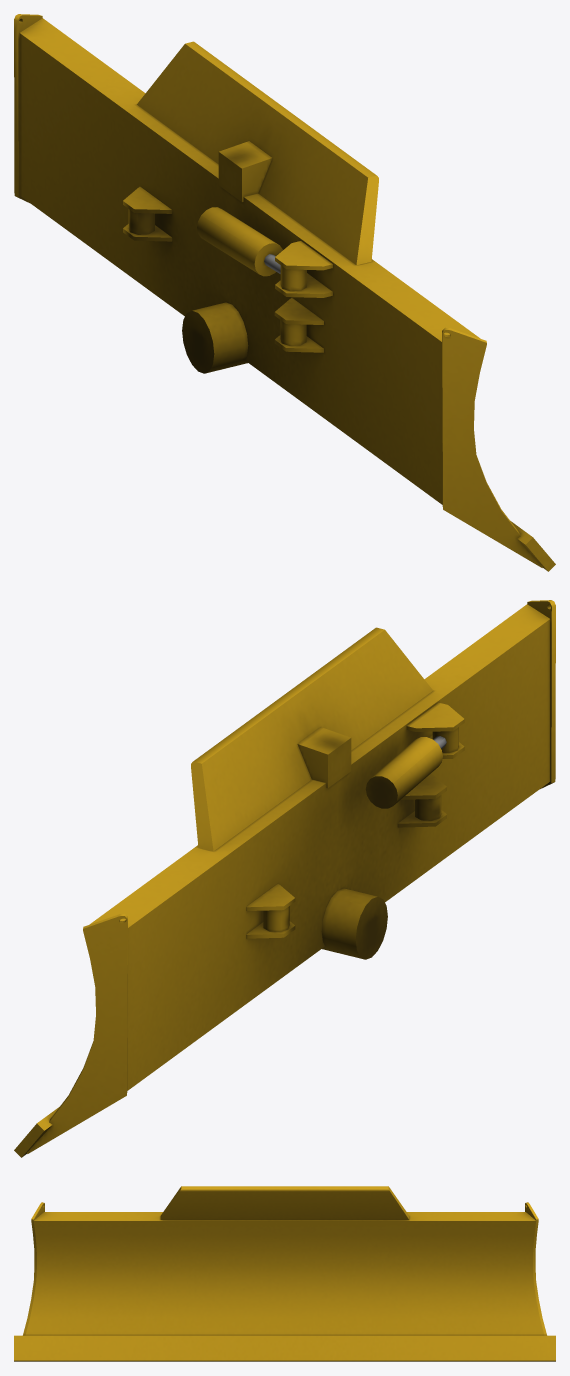
Rendered from d37pxi24-blade.dae.
The picture shows the model from 3 angles, top to bottom: view 1: azimuth 30°, elevation 25°; view 2: azimuth 150°, elevation 25°; view 3: azimuth 270°, elevation 25°; orthographic projection. The views are drawn at different scales.
Visible parts, largest first — view 1: d37pxi24-blade; view 2: d37pxi24-blade; view 3: d37pxi24-blade.
Part boxes in pixels (<box>): d37pxi24-blade: <box>14,14,555,571</box>; d37pxi24-blade: <box>14,600,555,1157</box>; d37pxi24-blade: <box>14,1186,555,1361</box>.
Bounding box in the file's own units: 0.5124 × 3.21 × 1.09.
Materials: 1 (1 with a texture image).
